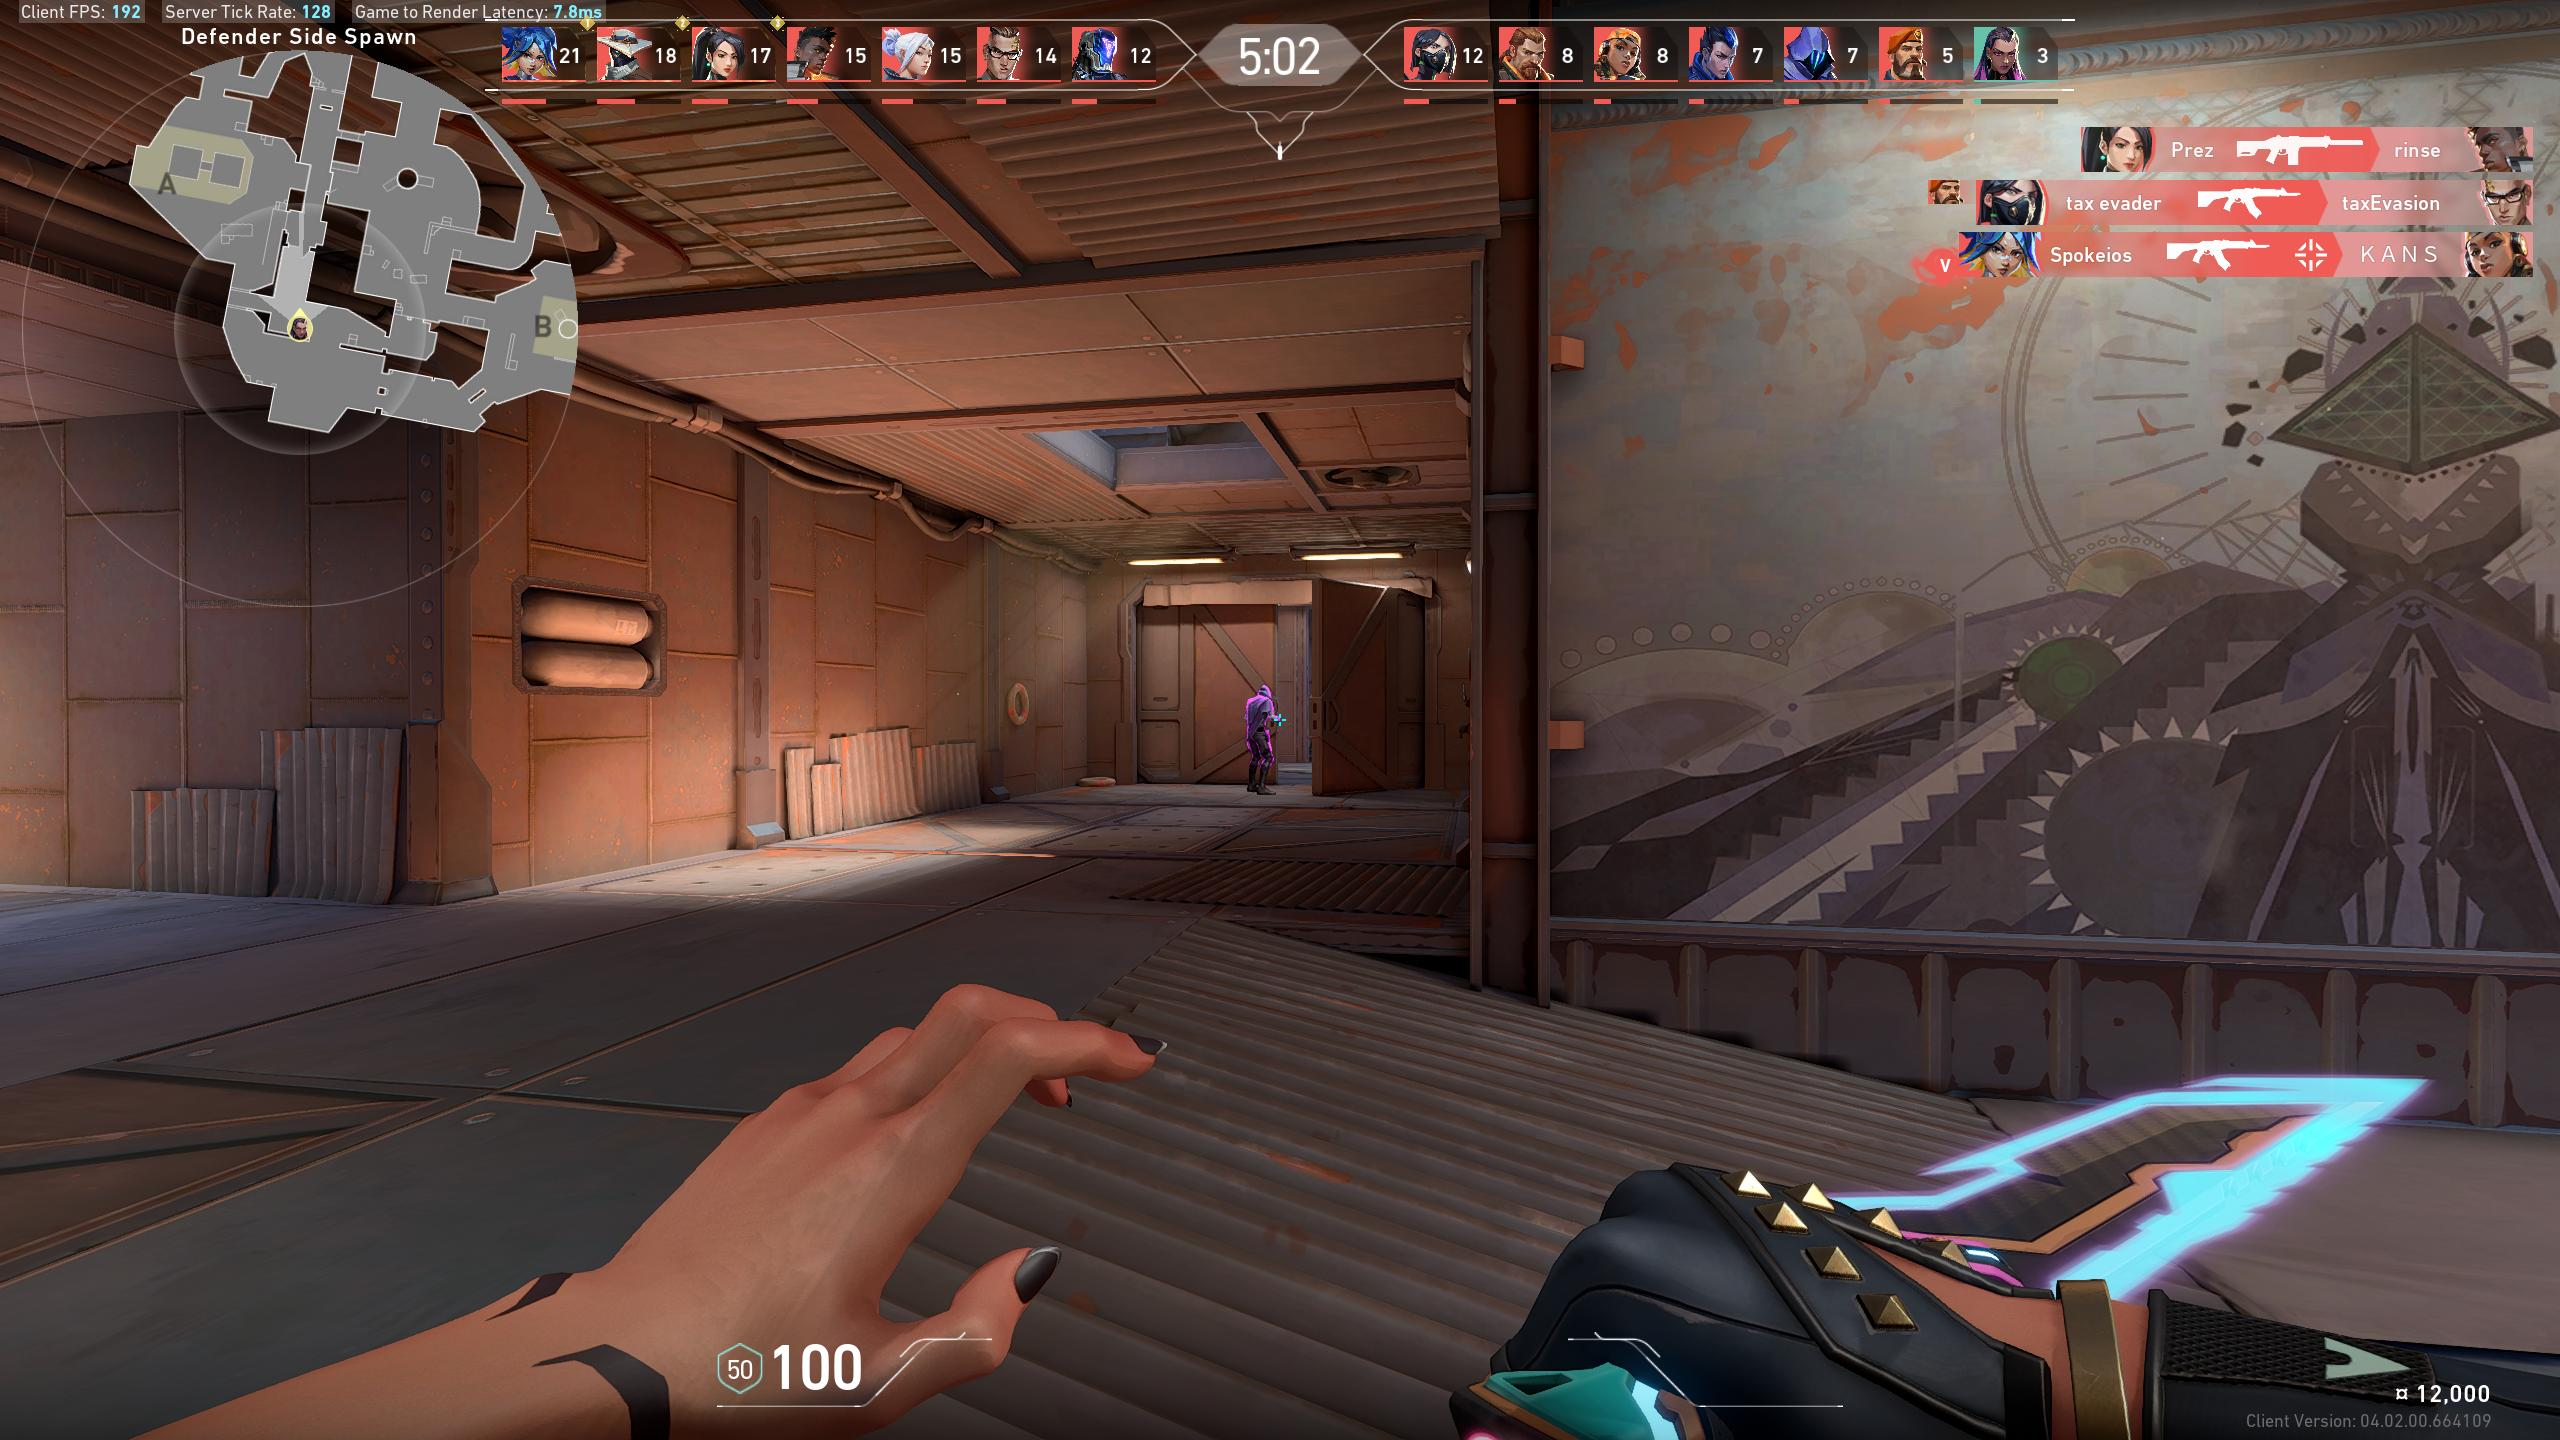enemyBody: (1252, 700, 1266, 730)
enemyHead: (1261, 687, 1268, 698)
